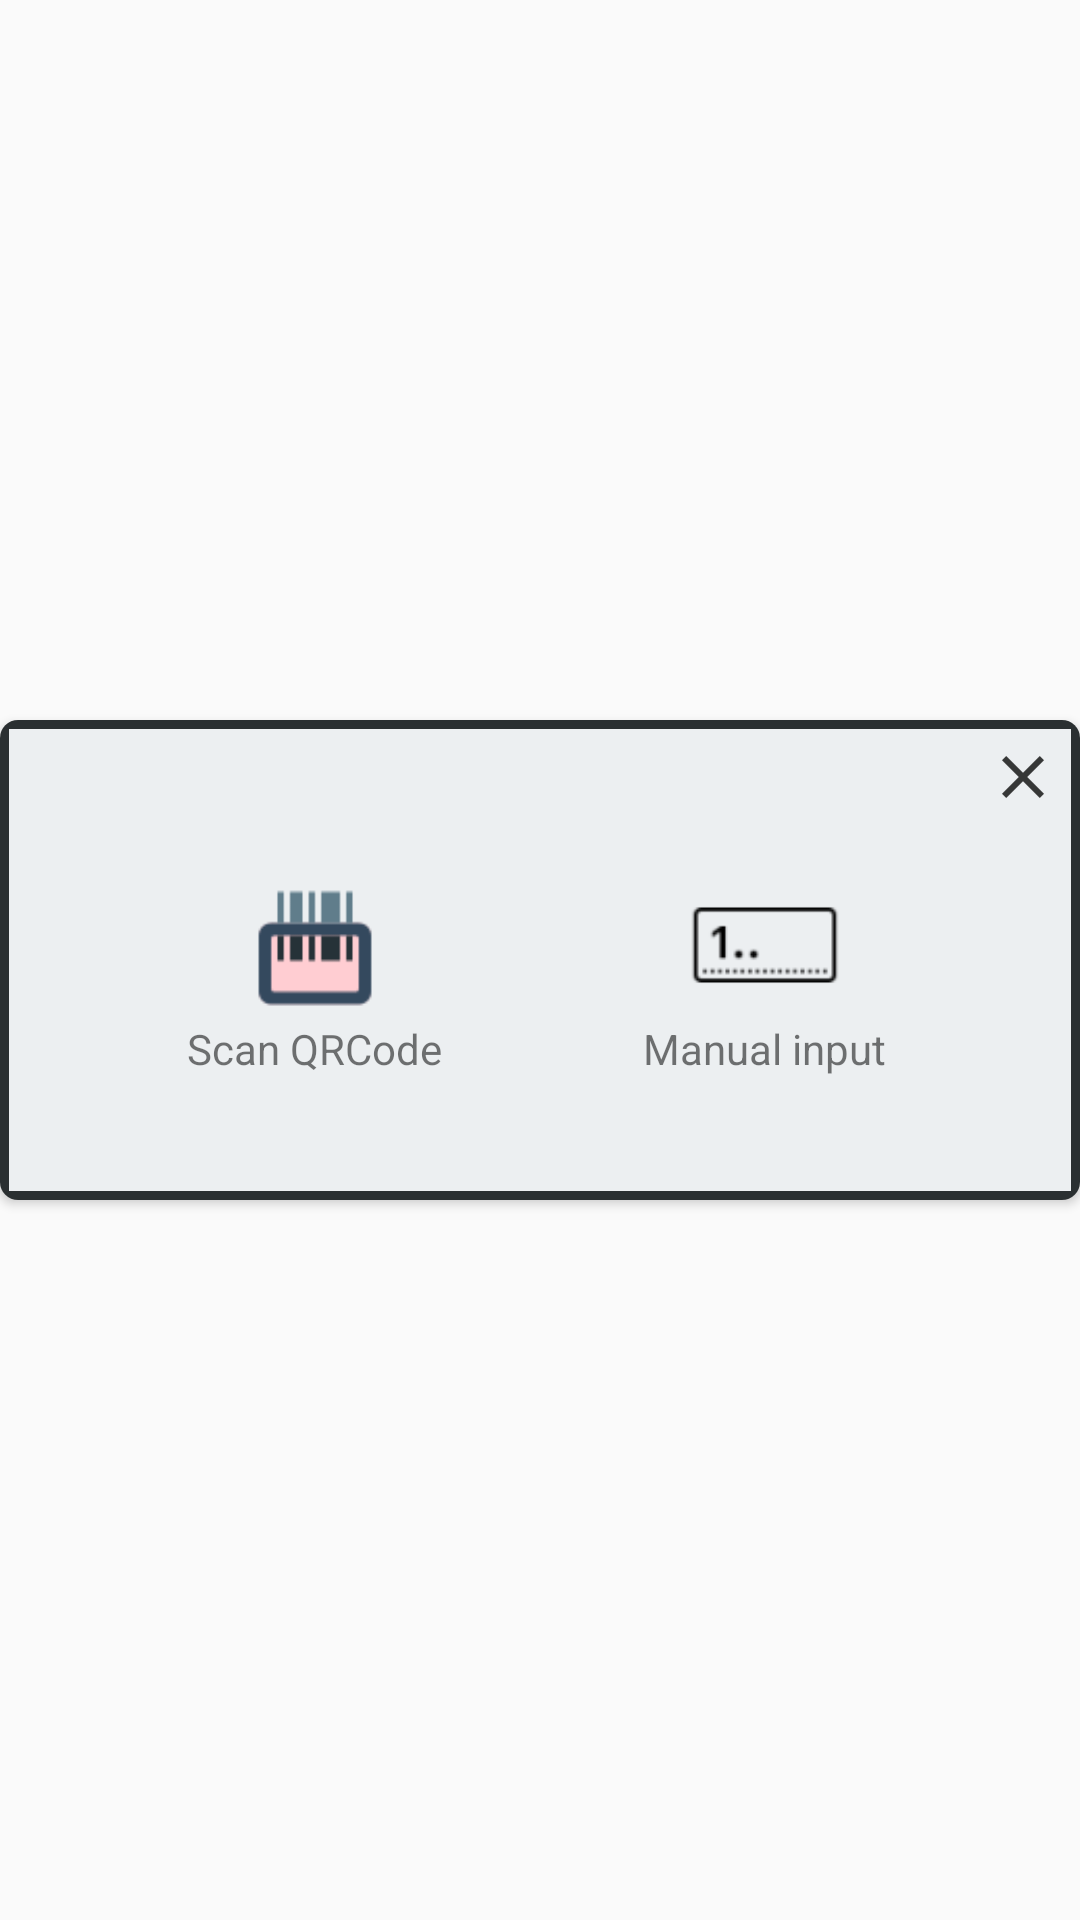

Screen size 1080 × 1920. Icon name, then its center in pixels as point (x, y):
close: point (1023, 777)
